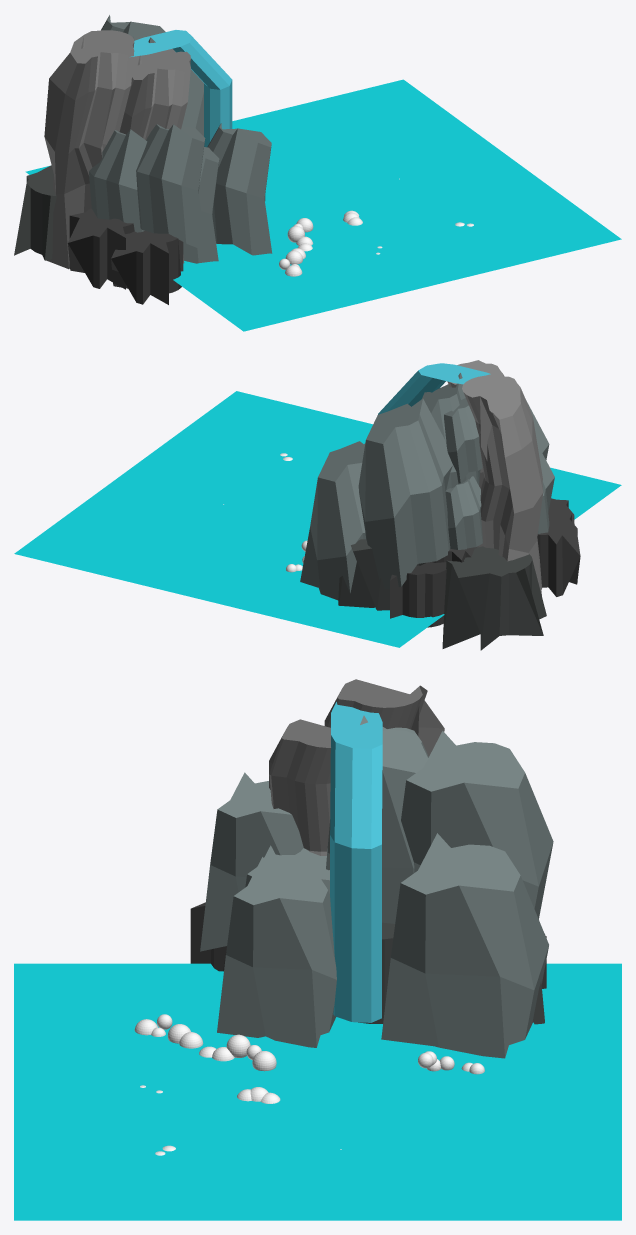
Rendered from waterfall2.glb.
3 views of the same model, one above another, from view 1: azimuth 30°, elevation 25°; view 2: azimuth 150°, elevation 25°; view 3: azimuth 270°, elevation 25° (orthographic). The views are drawn at different scales.
Parts seen in each view (by area): view 1: Plane.002, Cylinder.011, Cylinder.018, Cylinder.001, Cylinder.013, Cylinder.016, Cylinder.019, Cylinder, Cylinder.017, Cylinder.012, Cylinder.006, Cylinder.002 (+1 smaller); view 2: Plane.002, Cylinder.008, Cylinder.011, Cylinder.012, Cylinder.002, Cylinder.017, Cylinder.022, Cylinder.020, Cylinder.007, Cylinder.021, Cylinder, Cylinder.014 (+2 smaller); view 3: Plane.002, Cylinder.002, Cylinder.001, Cylinder, Cylinder.008, Cylinder.018, Cylinder.013, Cylinder.014, Cylinder.011, Cylinder.016, Cylinder.006, Cylinder.009.
Part boxes in pixels (x1,y1,x2,y2): Plane.002: (25,79,621,331); Cylinder.011: (44,30,134,269); Cylinder.018: (136,124,206,251); Cylinder.001: (207,123,272,255); Cylinder.013: (119,48,190,263); Cylinder.016: (111,231,183,304); Cylinder.019: (89,129,147,232); Cylinder: (131,30,232,147); Cylinder.017: (67,208,134,289); Cylinder.012: (14,165,56,260); Cylinder.006: (183,147,219,263); Cylinder.002: (182,69,203,136); Plane.002: (14,391,621,647); Cylinder.008: (358,398,452,588); Cylinder.011: (462,373,543,595); Cylinder.012: (442,546,546,650); Cylinder.002: (300,441,365,600); Cylinder.017: (537,511,580,596); Cylinder.022: (390,562,446,627); Cylinder.020: (445,476,482,549); Cylinder.007: (338,539,425,610); Cylinder.021: (444,398,482,483); Cylinder: (378,363,490,414); Cylinder.014: (422,373,480,489); Plane.002: (14,963,621,1220); Cylinder.002: (381,833,548,1058); Cylinder.001: (217,857,336,1047); Cylinder: (330,702,382,1022); Cylinder.008: (401,731,553,919); Cylinder.018: (200,772,303,951); Cylinder.013: (269,719,330,855); Cylinder.014: (326,715,428,923); Cylinder.011: (324,679,444,756); Cylinder.016: (190,902,226,971); Cylinder.006: (245,845,329,893); Cylinder.009: (358,922,394,1023).
Size of the model in its own units: 18.85 by 9.23 by 15.68.
